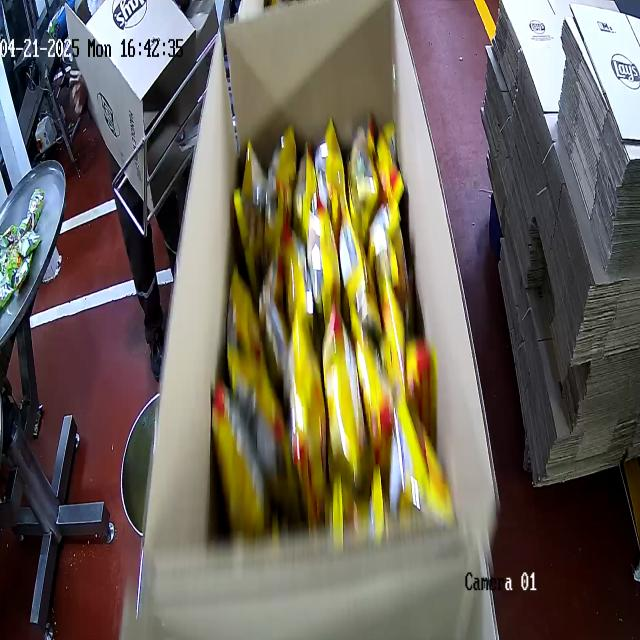SALTED: (211, 110, 429, 518)
